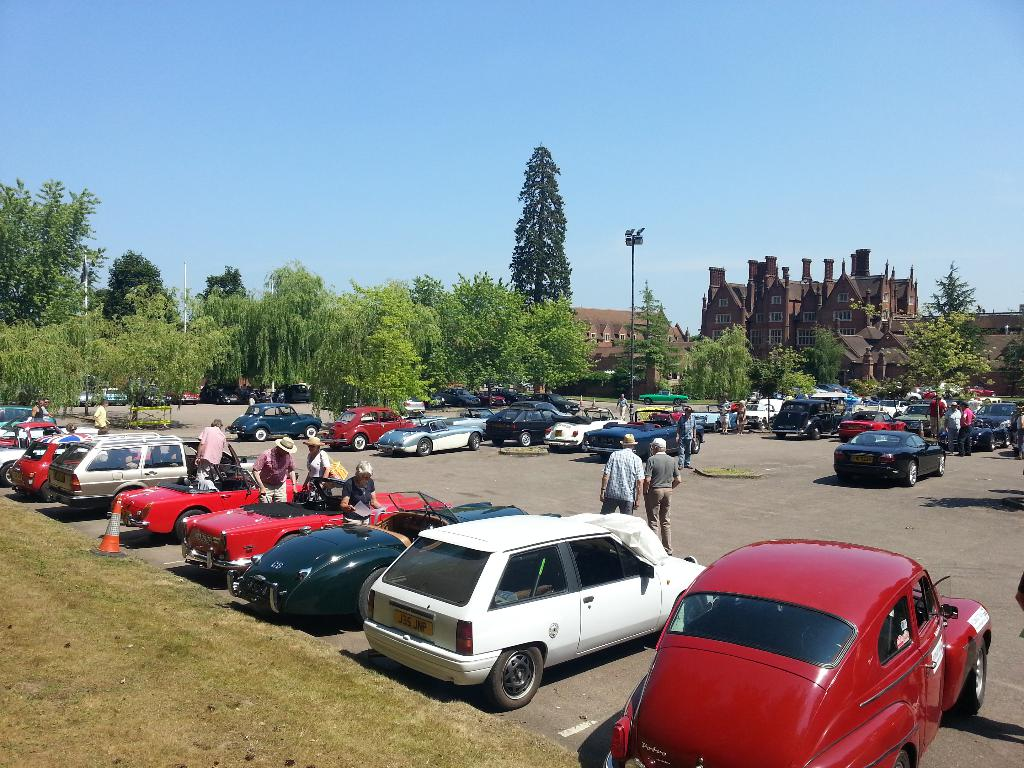Car: (599, 534, 990, 767), (227, 399, 1023, 490), (229, 487, 561, 628), (180, 476, 450, 577), (108, 460, 307, 542), (9, 440, 138, 503), (0, 403, 55, 433), (437, 384, 479, 407), (275, 381, 321, 398), (202, 385, 245, 401), (134, 386, 169, 405), (164, 386, 196, 406), (70, 386, 96, 406), (97, 387, 126, 403)
